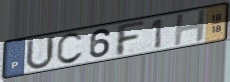1: (150, 17, 164, 50)
6: (89, 27, 112, 59)
C: (55, 31, 85, 66)
F: (115, 20, 147, 58)
H: (173, 7, 208, 48)
U: (24, 35, 56, 72)
